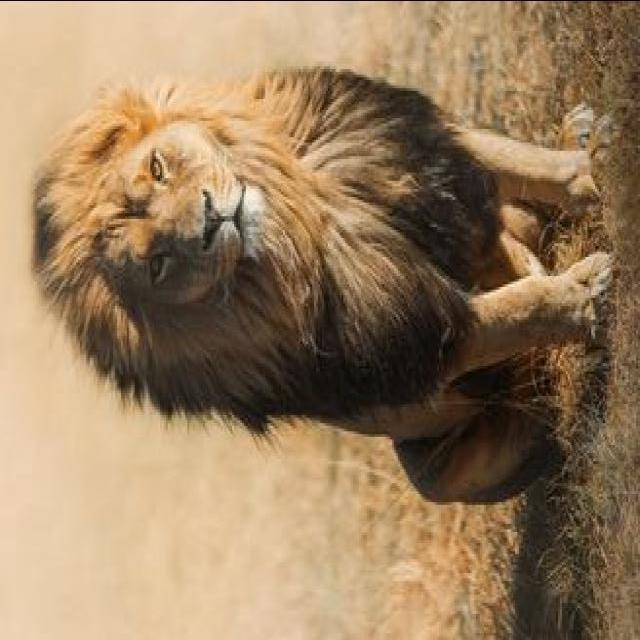lions: (20, 14, 640, 495)
